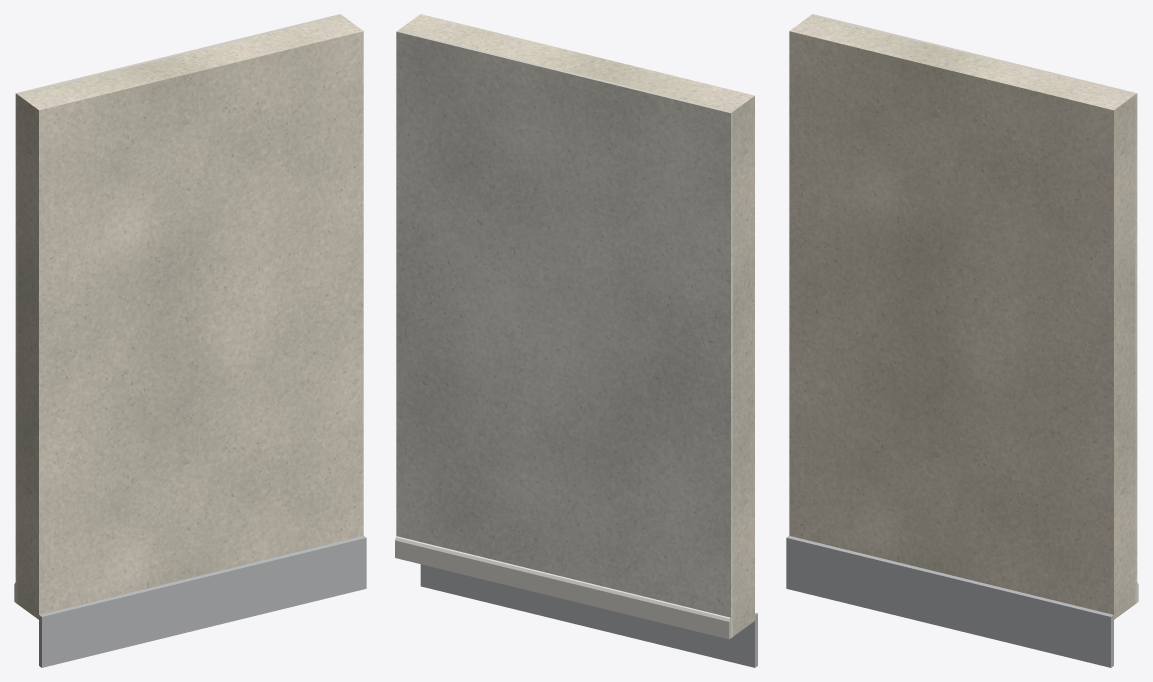
File: t_plain.glb
3 views of the same model, side by side, from view 1: azimuth 30°, elevation 25°; view 2: azimuth 150°, elevation 25°; view 3: azimuth 330°, elevation 25° (orthographic). The views are drawn at different scales.
Parts seen in each view (by area): view 1: t_plain_render, t_plain_band, t_plain_plaster; view 2: t_plain_plaster, t_plain_render, t_plain_band, t_plain_trim; view 3: t_plain_render, t_plain_band, t_plain_plaster.
Part boxes in pixels (bbox=[...]): t_plain_render: bbox=[17, 15, 363, 619]; t_plain_band: bbox=[39, 535, 366, 667]; t_plain_plaster: bbox=[15, 14, 341, 603]; t_plain_plaster: bbox=[396, 30, 732, 637]; t_plain_render: bbox=[398, 14, 754, 636]; t_plain_band: bbox=[420, 564, 757, 667]; t_plain_trim: bbox=[395, 536, 730, 639]; t_plain_render: bbox=[789, 15, 1135, 619]; t_plain_band: bbox=[786, 535, 1113, 667]; t_plain_plaster: bbox=[811, 14, 1137, 603].
Size of the model in its own units: 2 by 3.27 by 0.296.
4 materials, 2 textured.
